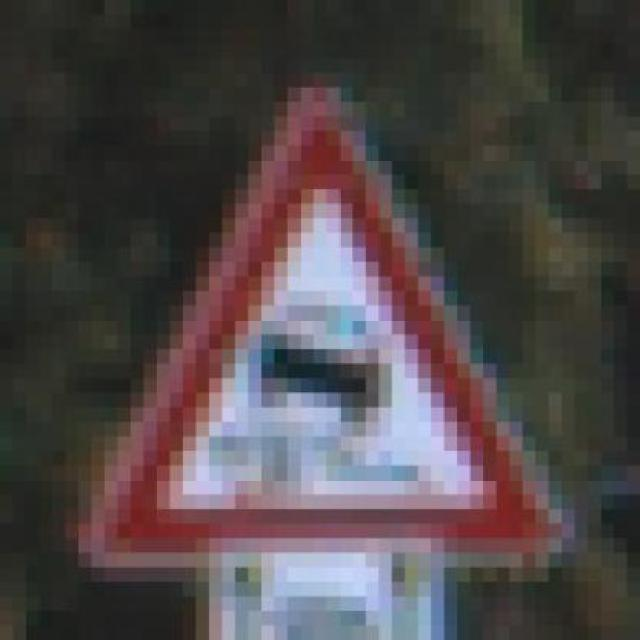Slippery Road Ahead: (72, 58, 556, 582)
